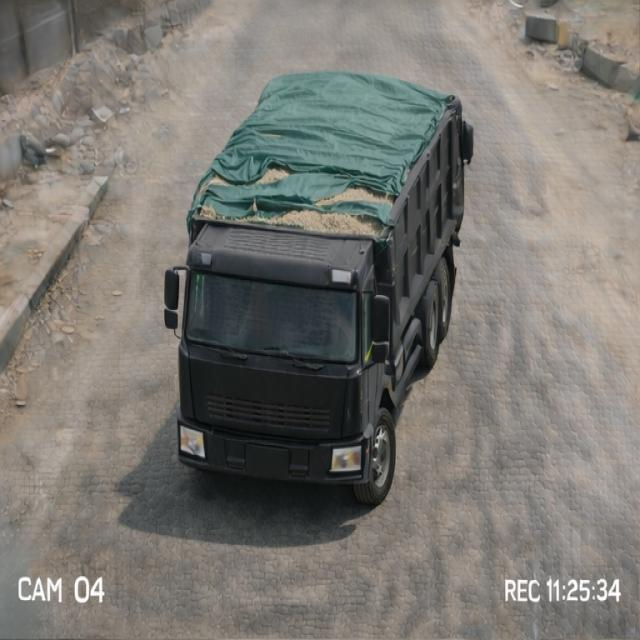trailer: (187, 72, 471, 231)
truck: (158, 62, 487, 505)
